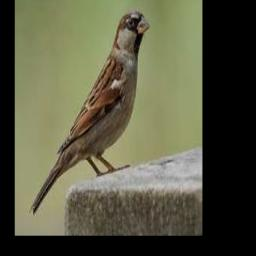Sparrow: (29, 12, 150, 214)
